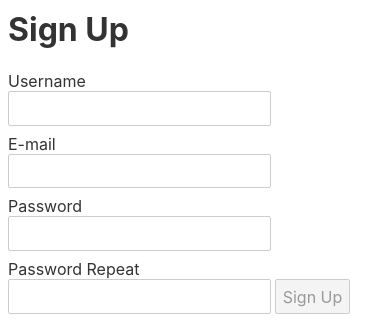
Test case: sign up page › interactions › enables the button when the password and password repeat fields → same value
Type "p4ssword" into the password field labelled "Password" at [139, 234], box [8,216,271,251]
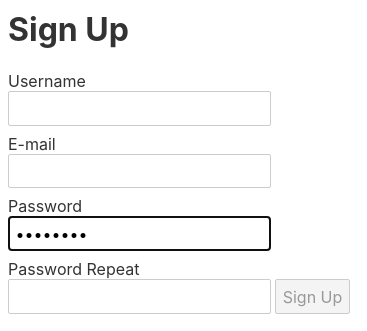
Type "p4ssword" into the password field labelled "Password Repeat" at [139, 297], box [8,279,271,314]
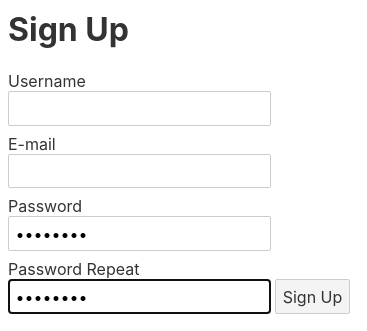
Check: the button "Sign Up" is enabled, box [275,279,350,314]
